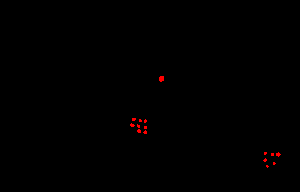Target: (159, 76, 164, 82), (276, 152, 281, 157), (130, 123, 135, 127), (137, 129, 141, 133), (143, 130, 147, 134), (263, 158, 267, 162), (132, 118, 136, 121), (144, 119, 147, 123), (137, 124, 140, 128), (139, 119, 142, 122), (144, 126, 147, 129), (264, 152, 267, 155), (271, 153, 274, 156), (273, 162, 276, 165), (266, 165, 269, 168)
